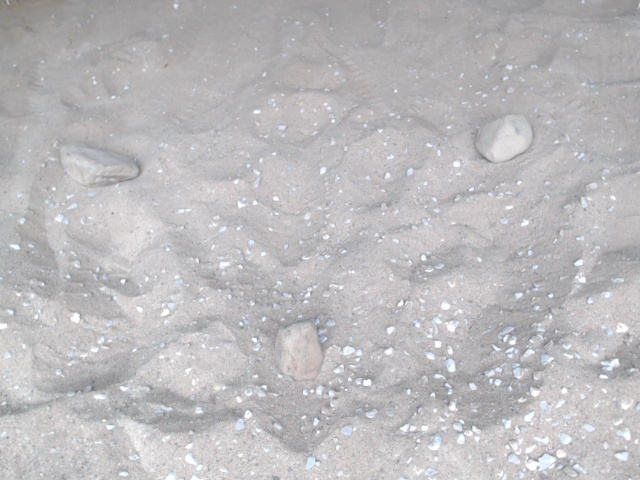rock: (56, 139, 143, 191), (270, 315, 326, 386), (471, 109, 537, 167)
